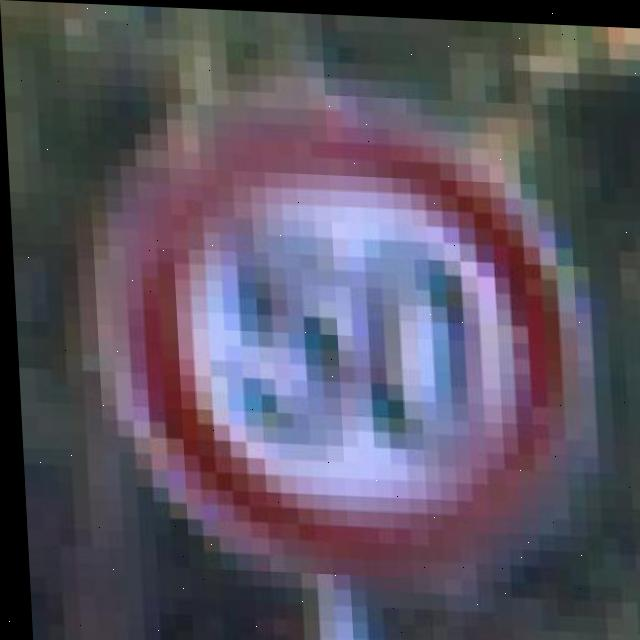Speed limit 50: (89, 91, 582, 579)
